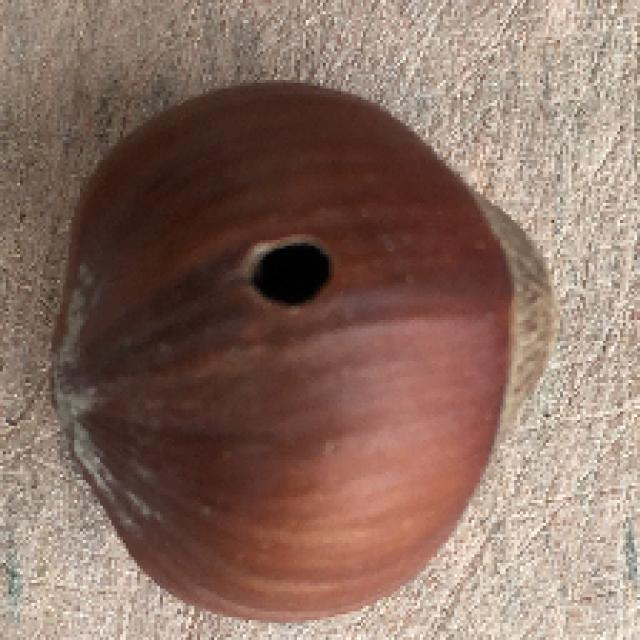damagedHazelnut: (47, 77, 554, 626)
